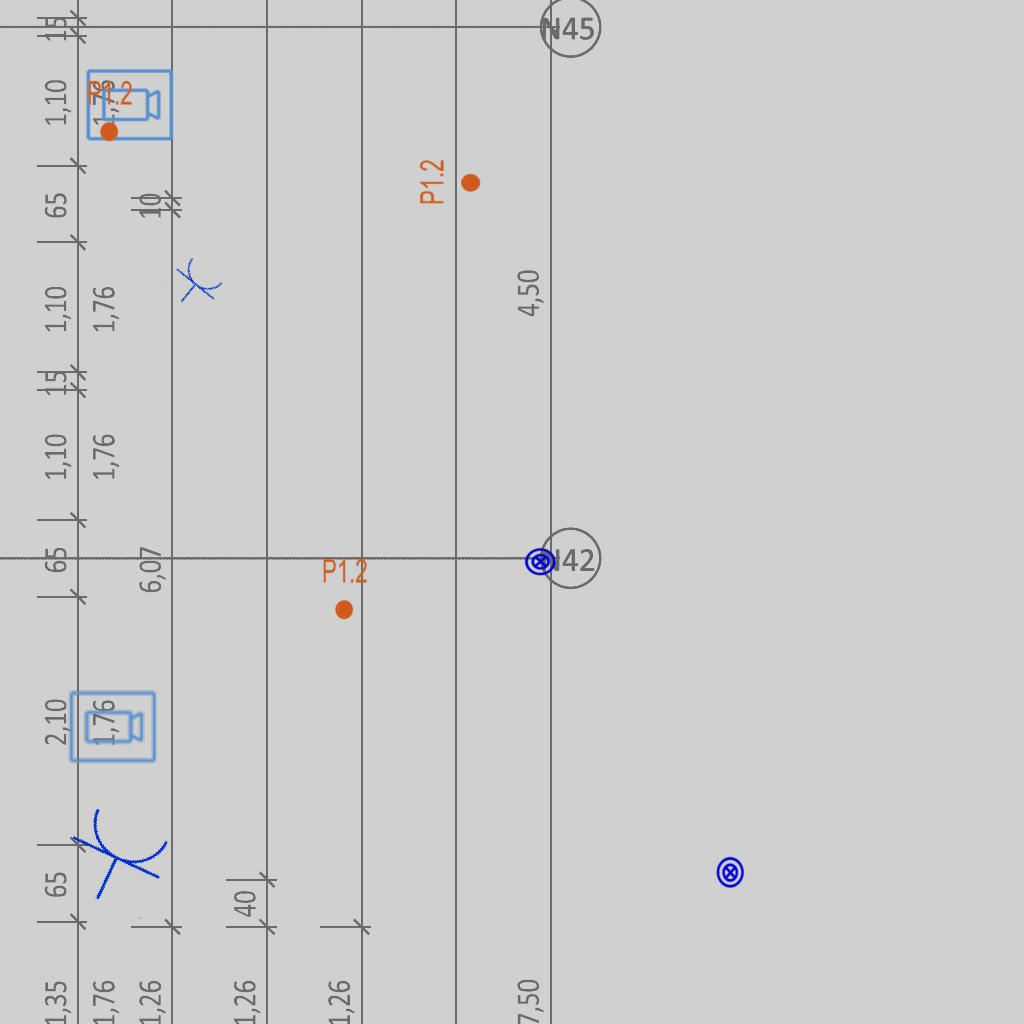Downlight_LED_Einbauleuchten_Flur: (322, 557, 368, 621), (418, 159, 482, 205), (87, 79, 133, 143)
KFO_Kamera_mit_Festobjektiv: (67, 689, 158, 766), (84, 67, 175, 144)
Schukosteckdose_einfach: (52, 799, 180, 922), (162, 253, 228, 318)
Taster_beleuchtet: (714, 856, 747, 889), (524, 545, 557, 578)
